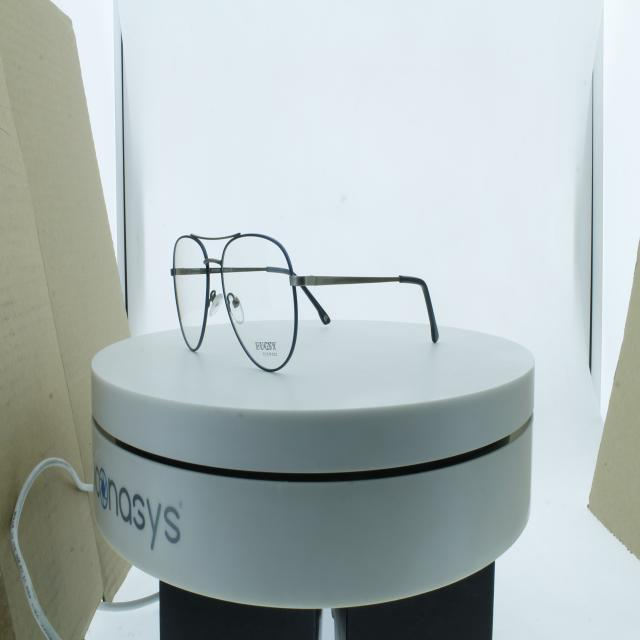Specs: (150, 191, 481, 391)
